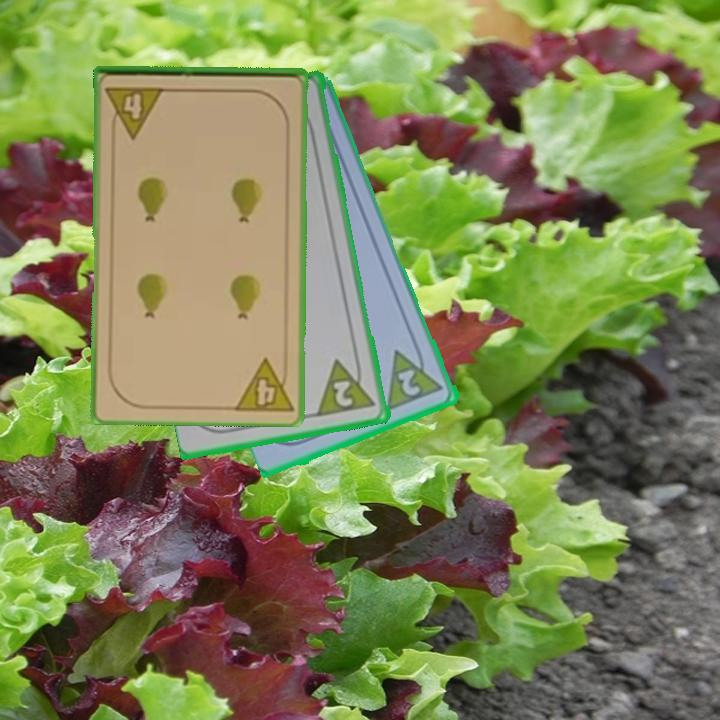2p: (383, 340, 447, 413), (315, 353, 379, 420)
4p: (231, 353, 296, 414), (102, 83, 168, 140)
